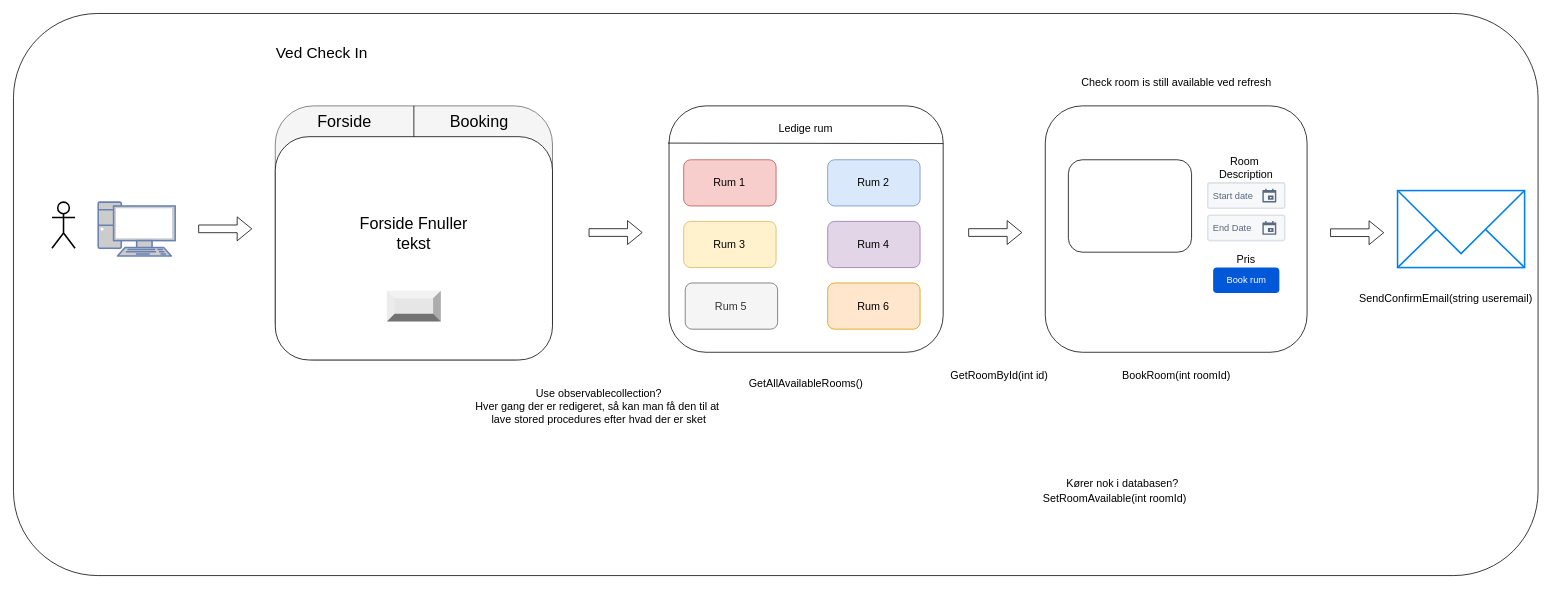
Image size: 1552x589. Some labels were removed from this diagram. The shapes that lost their labels are listed below. From the top down, each one's centre as x and y in pixels, then its label:
pixel 63 225: Kunde (Lars)
pixel 1130 205: Very nice picture
pixel 136 228: landlyst.hotel
pixel 1460 228: Send bekræftelse email
pixel 413 305: book nu!
